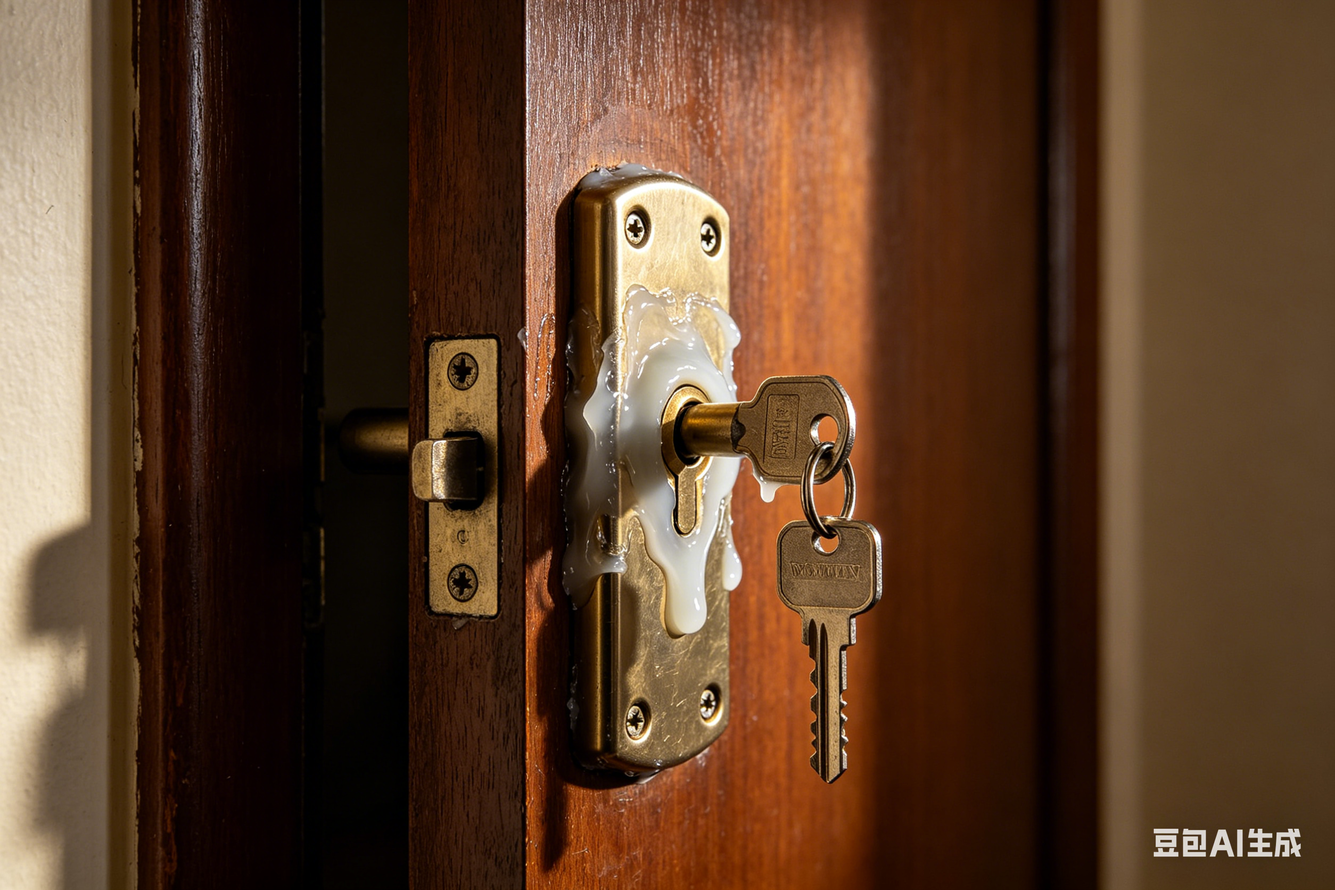BadLock: (617, 306, 745, 631)
